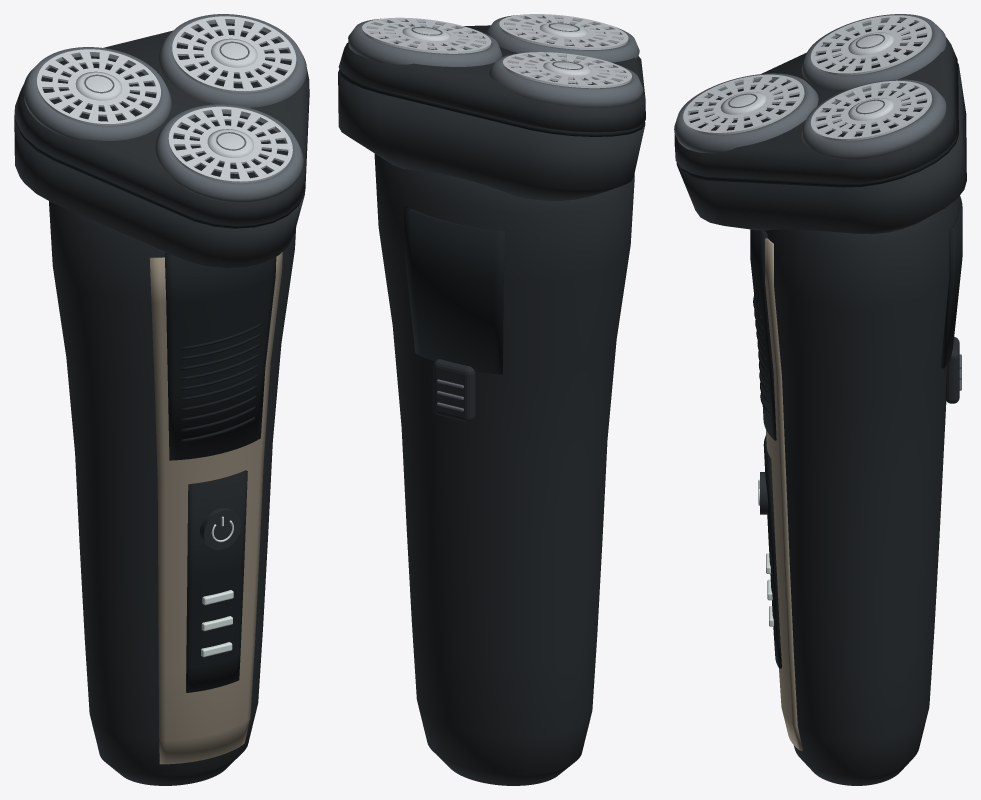
3 renders of one model, left to right at view 1: azimuth 30°, elevation 25°; view 2: azimuth 150°, elevation 25°; view 3: azimuth 270°, elevation 25°, orthographic. The views are drawn at different scales.
Visible parts, largest first — view 1: Contoured full-depth handle, Warm front bezel, Upper textured grip, Rounded triangular upper carrier, Rounded triangular lower head, Inset front control panel, Rotor 2 perforated stainless foil, Rotor 1 perforated stainless foil, Rotor 0 perforated stainless foil, Rotor 2 beveled collar, Rotor 0 beveled collar, Rotor 1 beveled collar (+8 smaller); view 2: Contoured full-depth handle, Rounded triangular lower head, Closed rear trimmer cover, Rounded triangular upper carrier, Rotor 0 beveled collar, Rotor 0 perforated stainless foil, Rotor 1 perforated stainless foil, Rotor 2 perforated stainless foil, Rotor 1 beveled collar, Rear trimmer release, Rotor 2 beveled collar, Closed head perimeter seam (+3 smaller); view 3: Contoured full-depth handle, Rounded triangular lower head, Rounded triangular upper carrier, Warm front bezel, Rotor 2 perforated stainless foil, Rotor 0 perforated stainless foil, Rotor 1 perforated stainless foil, Rotor 1 beveled collar, Rotor 2 beveled collar, Rotor 0 beveled collar, Upper textured grip, Closed rear trimmer cover (+9 smaller).
Part boxes in pixels (x1=…): Contoured full-depth handle: x1=49, y1=201, x2=296, y2=785; Warm front bezel: x1=149, y1=252, x2=282, y2=764; Upper textured grip: x1=164, y1=253, x2=276, y2=460; Rounded triangular upper carrier: x1=15, y1=30, x2=309, y2=225; Rounded triangular lower head: x1=14, y1=109, x2=304, y2=268; Inset front control panel: x1=186, y1=470, x2=247, y2=692; Rotor 2 perforated stainless foil: x1=168, y1=106, x2=292, y2=183; Rotor 1 perforated stainless foil: x1=172, y1=16, x2=296, y2=92; Rotor 0 perforated stainless foil: x1=36, y1=49, x2=160, y2=125; Rotor 2 beveled collar: x1=155, y1=104, x2=303, y2=202; Rotor 0 beveled collar: x1=23, y1=47, x2=171, y2=140; Rotor 1 beveled collar: x1=158, y1=14, x2=306, y2=107; Contoured full-depth handle: x1=374, y1=154, x2=634, y2=785; Rounded triangular lower head: x1=338, y1=71, x2=645, y2=200; Closed rear trimmer cover: x1=404, y1=206, x2=505, y2=374; Rounded triangular upper carrier: x1=338, y1=25, x2=645, y2=132; Rotor 0 beveled collar: x1=489, y1=53, x2=643, y2=107; Rotor 0 perforated stainless foil: x1=502, y1=52, x2=631, y2=88; Rotor 1 perforated stainless foil: x1=362, y1=17, x2=491, y2=53; Rotor 2 perforated stainless foil: x1=499, y1=14, x2=628, y2=49; Rotor 1 beveled collar: x1=348, y1=18, x2=502, y2=66; Rear trimmer release: x1=433, y1=359, x2=475, y2=421; Rotor 2 beveled collar: x1=485, y1=15, x2=639, y2=62; Closed head perimeter seam: x1=339, y1=69, x2=644, y2=136; Contoured full-depth handle: x1=765, y1=197, x2=958, y2=785; Rounded triangular lower head: x1=676, y1=63, x2=966, y2=234; Rounded triangular upper carrier: x1=674, y1=37, x2=958, y2=183; Warm front bezel: x1=765, y1=238, x2=802, y2=750; Rotor 2 perforated stainless foil: x1=683, y1=74, x2=804, y2=134; Rotor 0 perforated stainless foil: x1=811, y1=15, x2=932, y2=75; Rotor 1 perforated stainless foil: x1=810, y1=80, x2=932, y2=140; Rotor 1 beveled collar: x1=801, y1=79, x2=946, y2=159; Rotor 2 beveled collar: x1=674, y1=73, x2=818, y2=153; Rotor 0 beveled collar: x1=801, y1=14, x2=946, y2=89; Upper textured grip: x1=750, y1=229, x2=776, y2=440; Closed rear trimmer cover: x1=940, y1=195, x2=962, y2=368.
Bounding box in the file's own units: 6.5 × 16.1 × 6.04.
